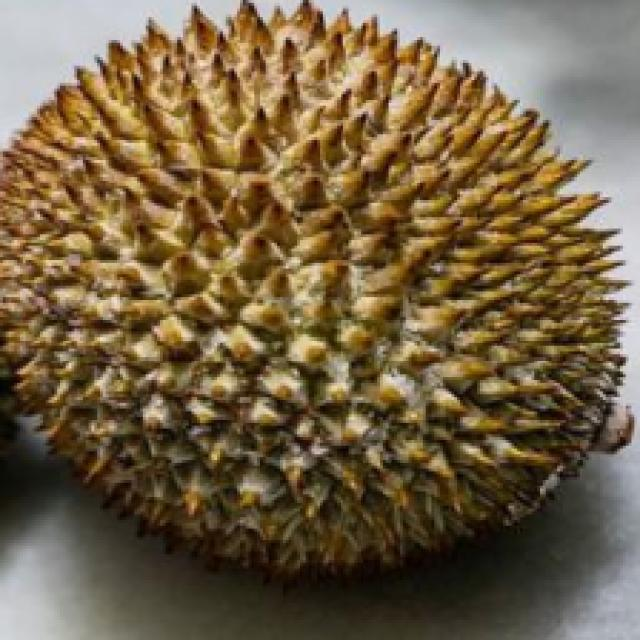d24: (25, 34, 605, 553)
